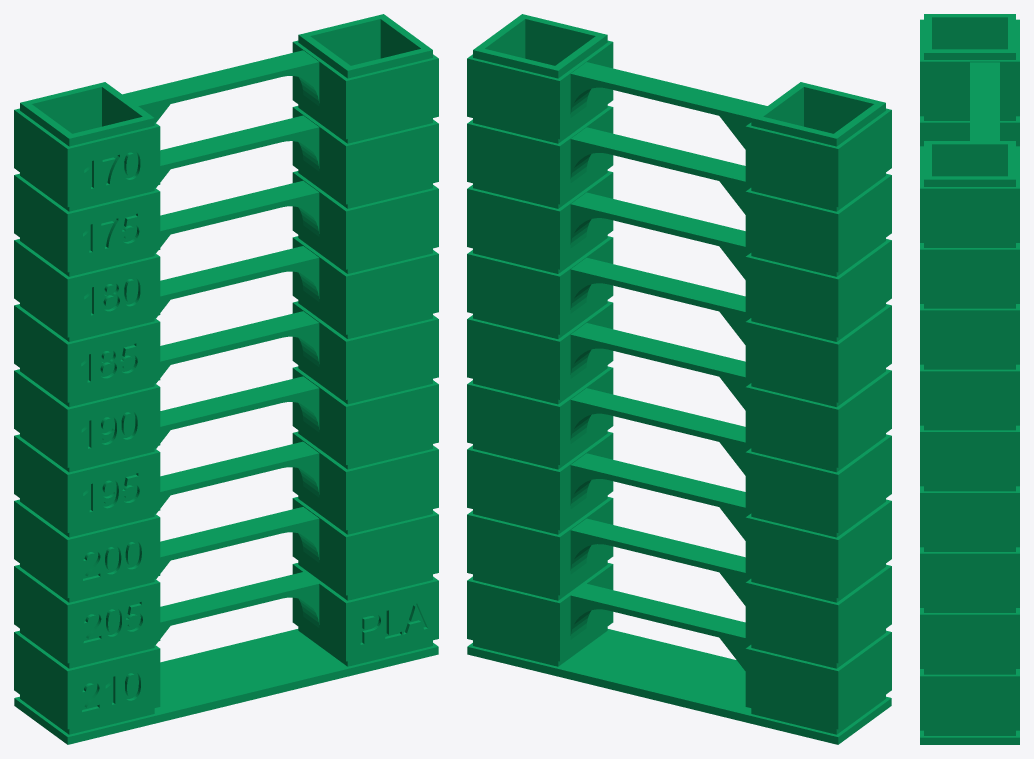
Rendered from 170-210_PLA_Temp_Tower-69.glb.
3 renders of one model, left to right at view 1: azimuth 30°, elevation 25°; view 2: azimuth 150°, elevation 25°; view 3: azimuth 270°, elevation 25°, orthographic. The views are drawn at different scales.
Bounding box in the file's own units: 40.03 × 62.2 × 10.
